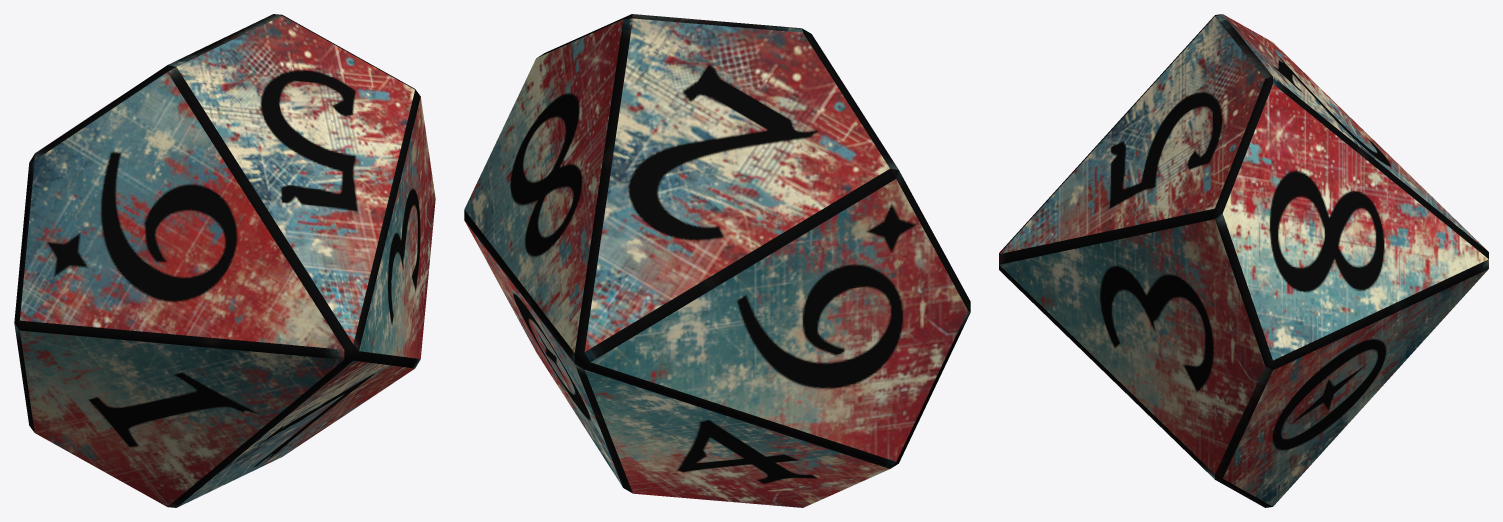
Rendered from chanced10.glb.
3 renders of one model, left to right at view 1: azimuth 30°, elevation 25°; view 2: azimuth 150°, elevation 25°; view 3: azimuth 270°, elevation 25°, orthographic. The views are drawn at different scales.
Visible parts, largest first — view 1: Mesh_0; view 2: Mesh_0; view 3: Mesh_0.
Boxes of the visible parts, x1=… form: Mesh_0: x1=14, y1=14, x2=435, y2=507; Mesh_0: x1=464, y1=14, x2=970, y2=507; Mesh_0: x1=999, y1=14, x2=1488, y2=507.
Size of the model in its own units: 175 by 166 by 172.
1 material, 1 textured.
